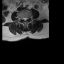CCS_normal: (24, 16, 25, 22)
LFS_stenosis: (27, 16, 28, 20)
LLS_normal: (25, 16, 27, 21)
RFS_stenosis: (21, 16, 22, 20)
RLS_stenosis: (22, 16, 24, 21)
